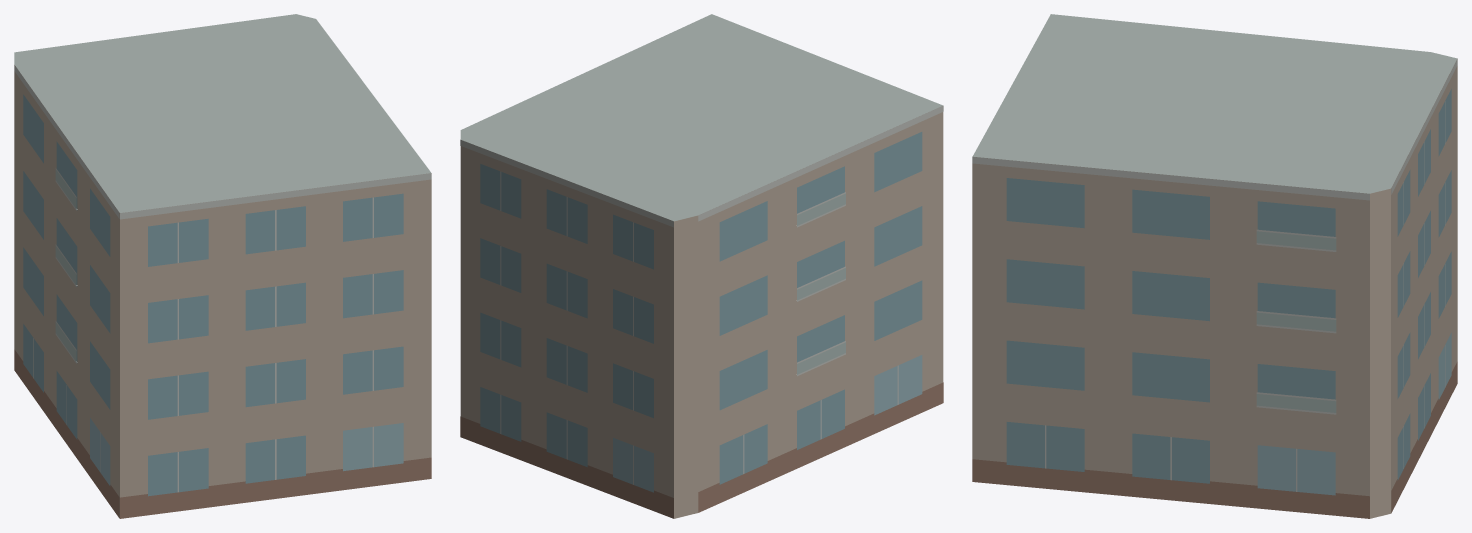
The model's file is survey-upis-32663526.glb.
3 renders of one model, left to right at view 1: azimuth 30°, elevation 25°; view 2: azimuth 150°, elevation 25°; view 3: azimuth 270°, elevation 25°, orthographic. The views are drawn at different scales.
Visible parts, largest first — view 1: survey-upis-32663526.tmp; view 2: survey-upis-32663526.tmp; view 3: survey-upis-32663526.tmp.
Boxes of the visible parts, x1,y1,x2,y2 form: survey-upis-32663526.tmp: (14,14,431,518); survey-upis-32663526.tmp: (460,14,943,518); survey-upis-32663526.tmp: (972,14,1457,518).
Size of the model in its own units: 13.88 by 11.7 by 15.83.
